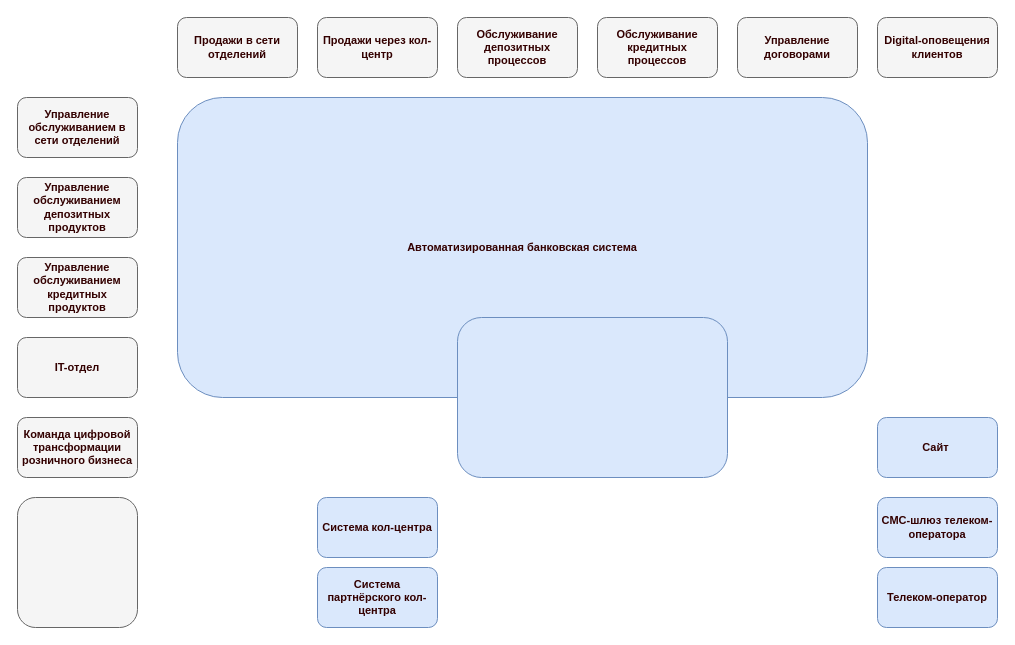
This 1015x645 diagram has some shape labels left out. Here are the shapes that lost their labels. From the top down, the centre of each, then its label:
At (x=592, y=397): "Интернет-банк".
At (x=77, y=562): "Кол-центр".
